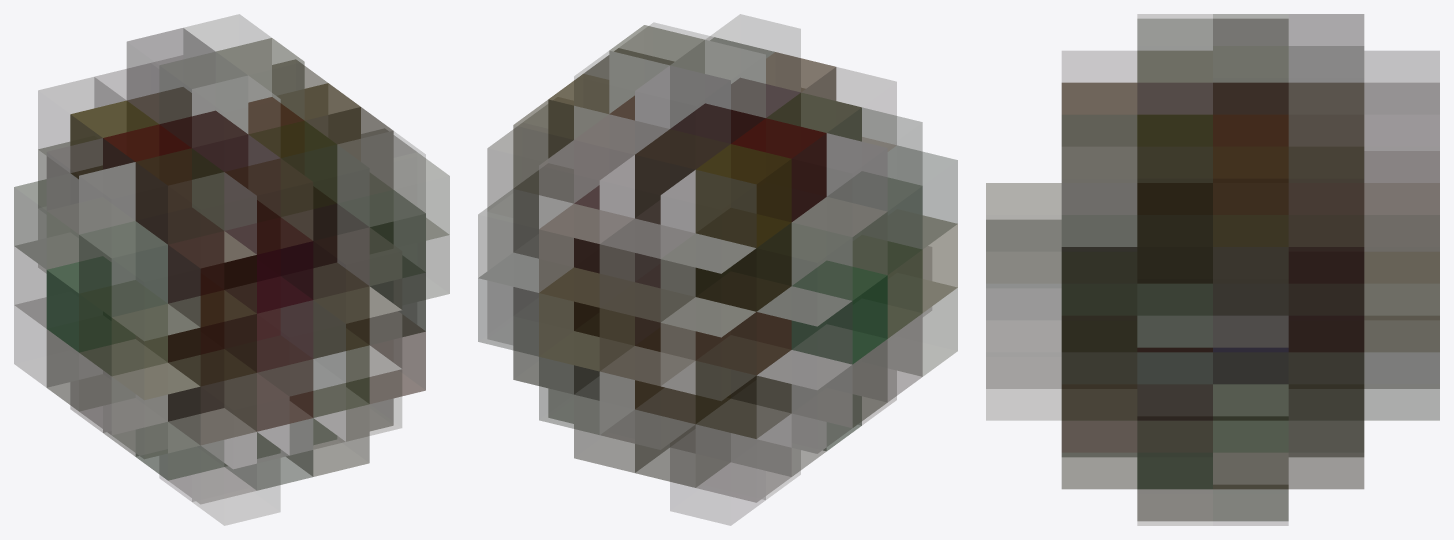
File: iter_15.obj
The picture shows the model from 3 angles, left to right: view 1: azimuth 30°, elevation 25°; view 2: azimuth 150°, elevation 25°; view 3: azimuth 270°, elevation 25°; orthographic projection. The views are drawn at different scales.
Visible parts, largest first — view 1: iter_15; view 2: iter_15; view 3: iter_15.
Boxes of the visible parts, x1,y1,x2,y2 form: iter_15: [14, 14, 449, 525]; iter_15: [478, 14, 957, 525]; iter_15: [986, 14, 1439, 525].
Bounding box in the file's own units: 0.6 × 0.7 × 0.6.
